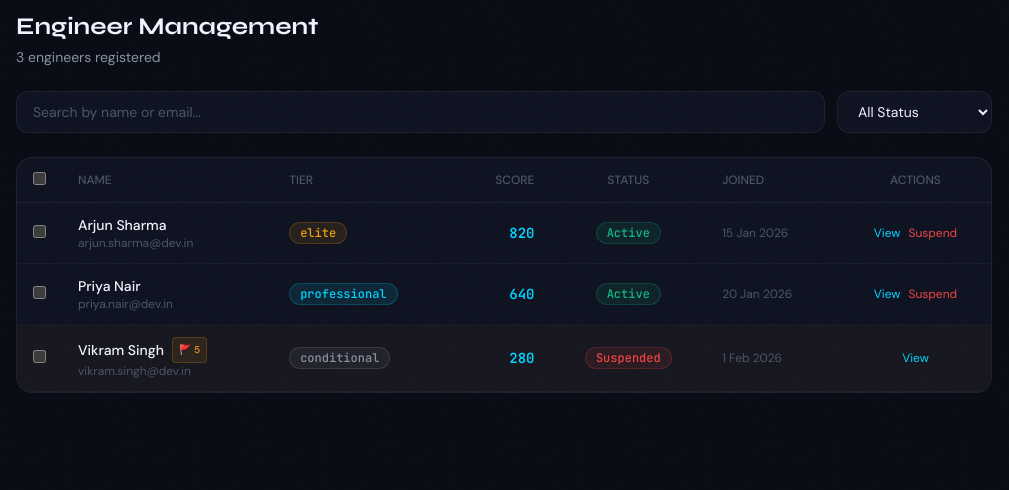
Test: Module 8: Admin Dashboard › Engineer Management › supports bulk selection and bulk suspend
// Select Priya Nair
Click the checkbox named "Select Priya Nair".
click(40, 292)  # box [33,286,46,299]
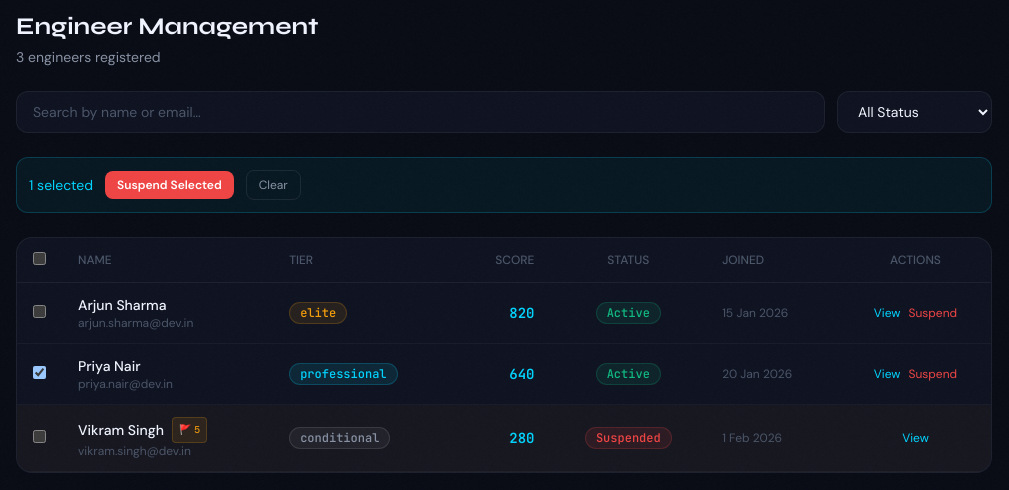
Now the text "1 selected" is shown, box [29,175,93,195]
Now the button "Suspend Selected" is shown, box [105,171,234,199]
